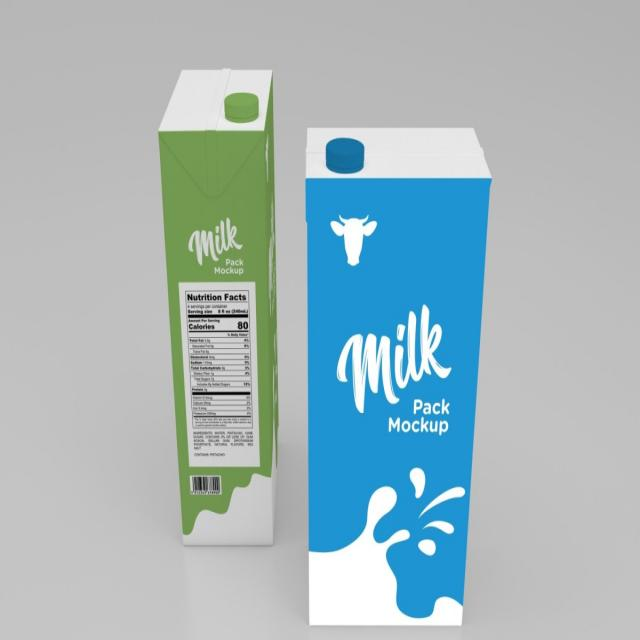non_white_jug: (298, 110, 482, 636), (149, 46, 290, 555)
